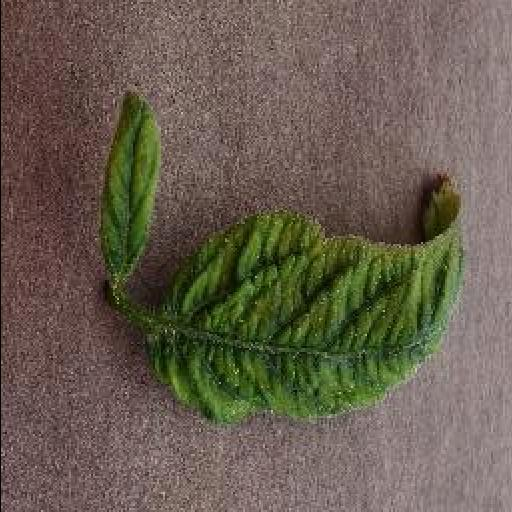disease_tomato: (142, 175, 460, 424), (98, 88, 162, 282)
